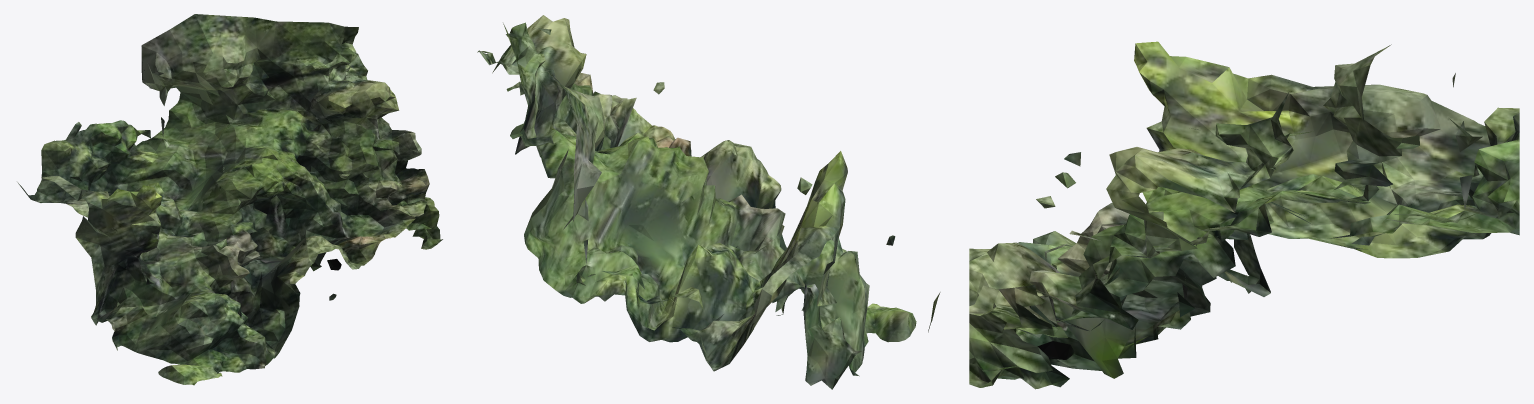
3 renders of one model, left to right at view 1: azimuth 30°, elevation 25°; view 2: azimuth 150°, elevation 25°; view 3: azimuth 270°, elevation 25°, orthographic. The views are drawn at different scales.
Bounding box in the file's own units: 52.22 × 44.15 × 52.22.
Materials: 5 (5 with a texture image).
